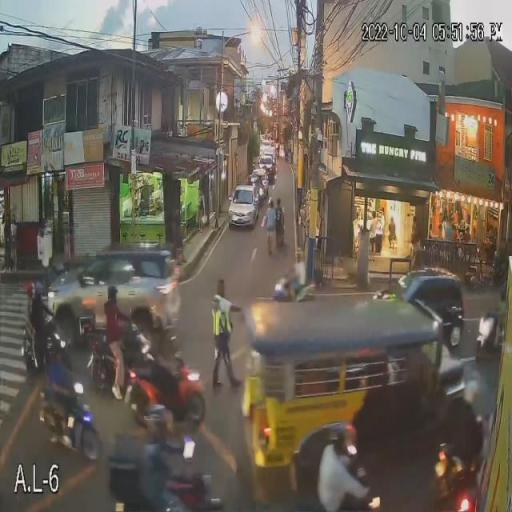helmet: (326, 424, 356, 458), (145, 404, 172, 437), (48, 334, 66, 358), (464, 380, 480, 404), (151, 311, 167, 333), (107, 286, 119, 305), (36, 284, 44, 298), (26, 283, 34, 296), (295, 252, 302, 262), (502, 290, 506, 304)
motorcycle: (107, 454, 227, 512), (38, 389, 104, 463), (128, 368, 206, 424), (90, 338, 150, 382), (290, 486, 380, 512), (436, 443, 483, 491), (20, 326, 45, 371), (477, 312, 505, 352), (273, 276, 316, 302)
rider: (142, 437, 180, 512), (48, 358, 77, 449), (319, 456, 365, 512), (452, 404, 480, 486), (148, 332, 178, 402), (104, 302, 124, 401), (23, 296, 37, 367), (34, 298, 48, 366), (292, 264, 306, 302), (496, 305, 504, 347)
